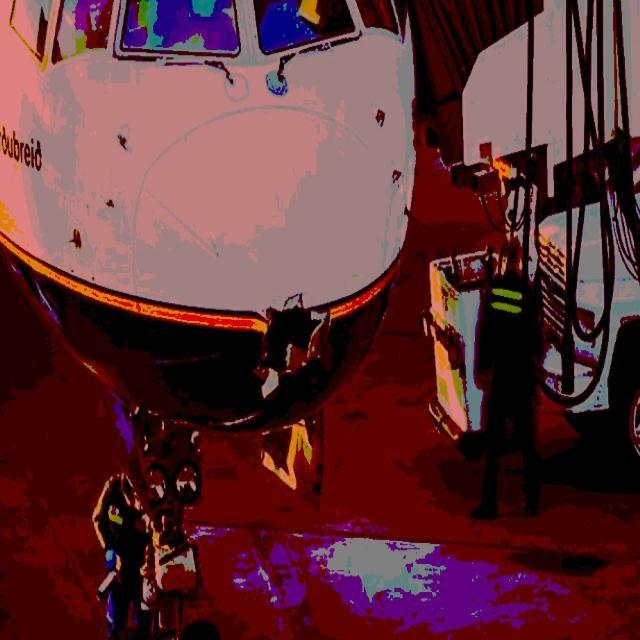crack: (254, 294, 338, 402)
